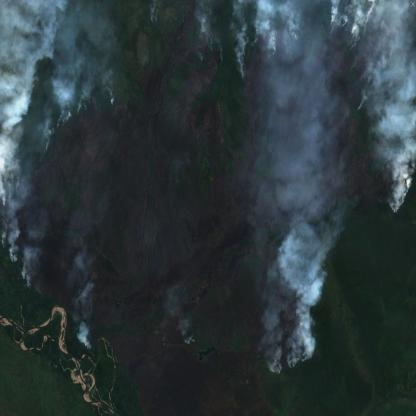fire: (238, 0, 416, 215), (0, 83, 62, 300), (146, 7, 226, 70), (273, 277, 324, 375)
